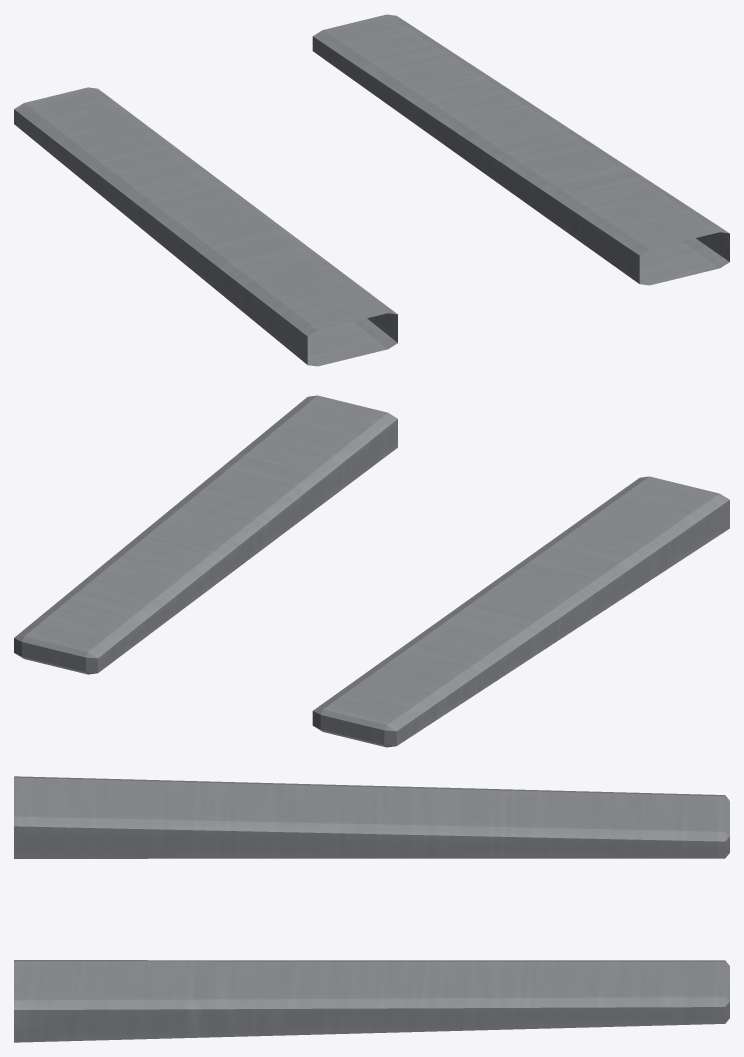
File: Fork-Object.FBX
The picture shows the model from 3 angles, top to bottom: view 1: azimuth 30°, elevation 25°; view 2: azimuth 150°, elevation 25°; view 3: azimuth 270°, elevation 25°; orthographic projection. The views are drawn at different scales.
Visible parts, largest first — view 1: Object; view 2: Object; view 3: Object.
Part boxes in pixels (x1,y1,x2,y2): Object: (14,14,729,366); Object: (14,395,729,747); Object: (14,776,729,1042).
Size of the model in its own units: 70.31 by 5.76 by 90.99.
1 material, 1 textured.
